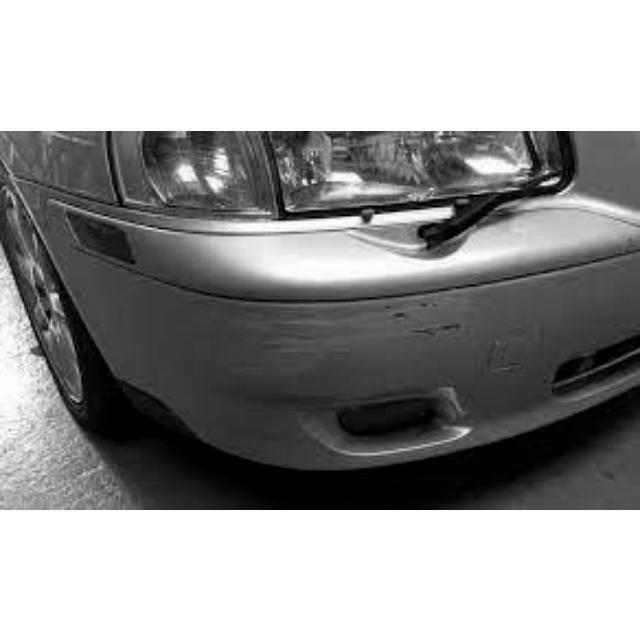front-bumper-dent: (23, 211, 638, 465)
